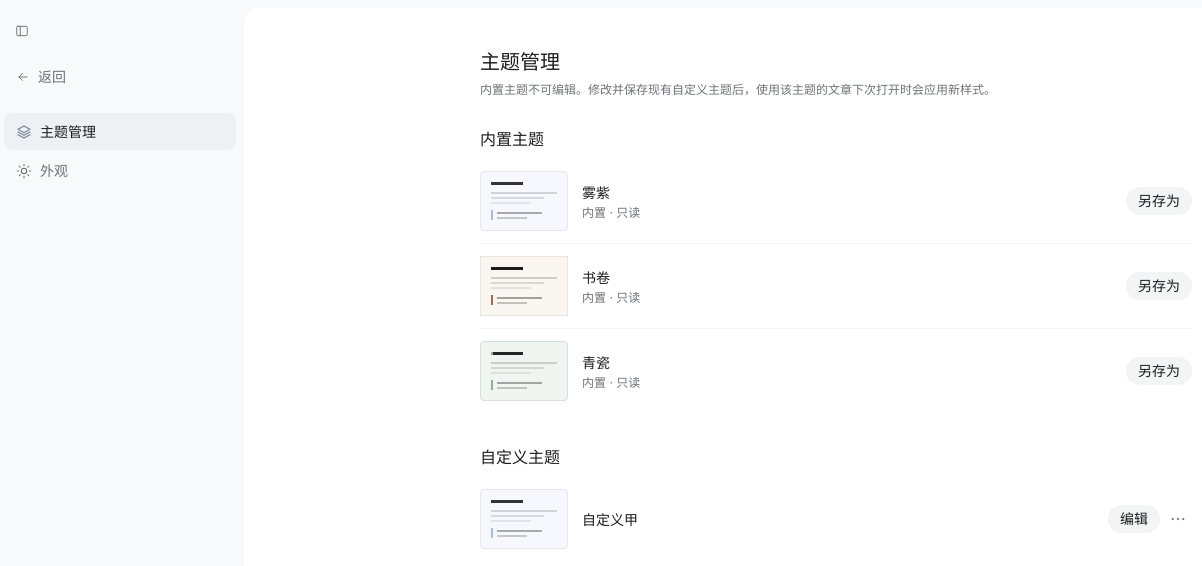
主题列表 › 编辑自定义主题进入编辑页
Click the button "编辑" at {"x": 1134, "y": 519}, box 1108,505 -> 1160,533
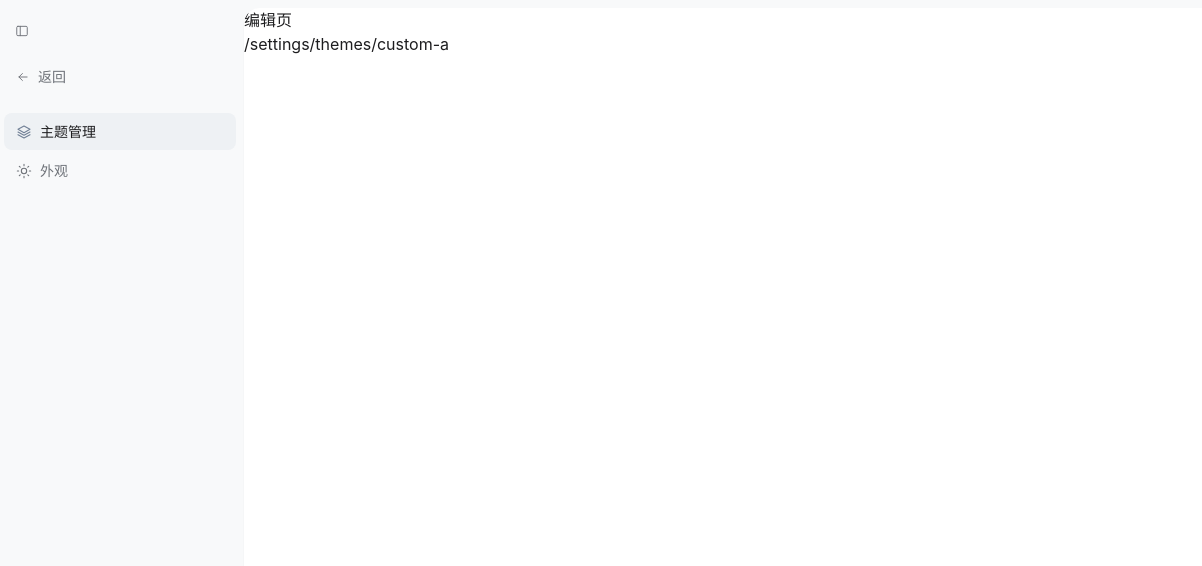
Check: the text with test id "location" reads "/settings/themes/custom-a", box 244,34 -> 449,54
